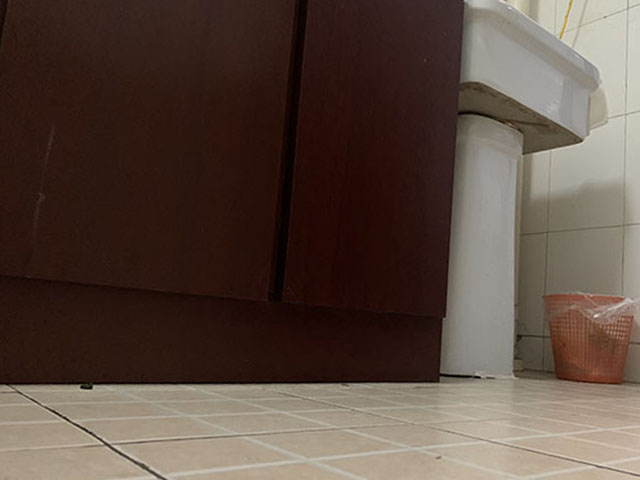cabinet: (1, 1, 466, 385)
trashcan: (540, 289, 637, 385)
